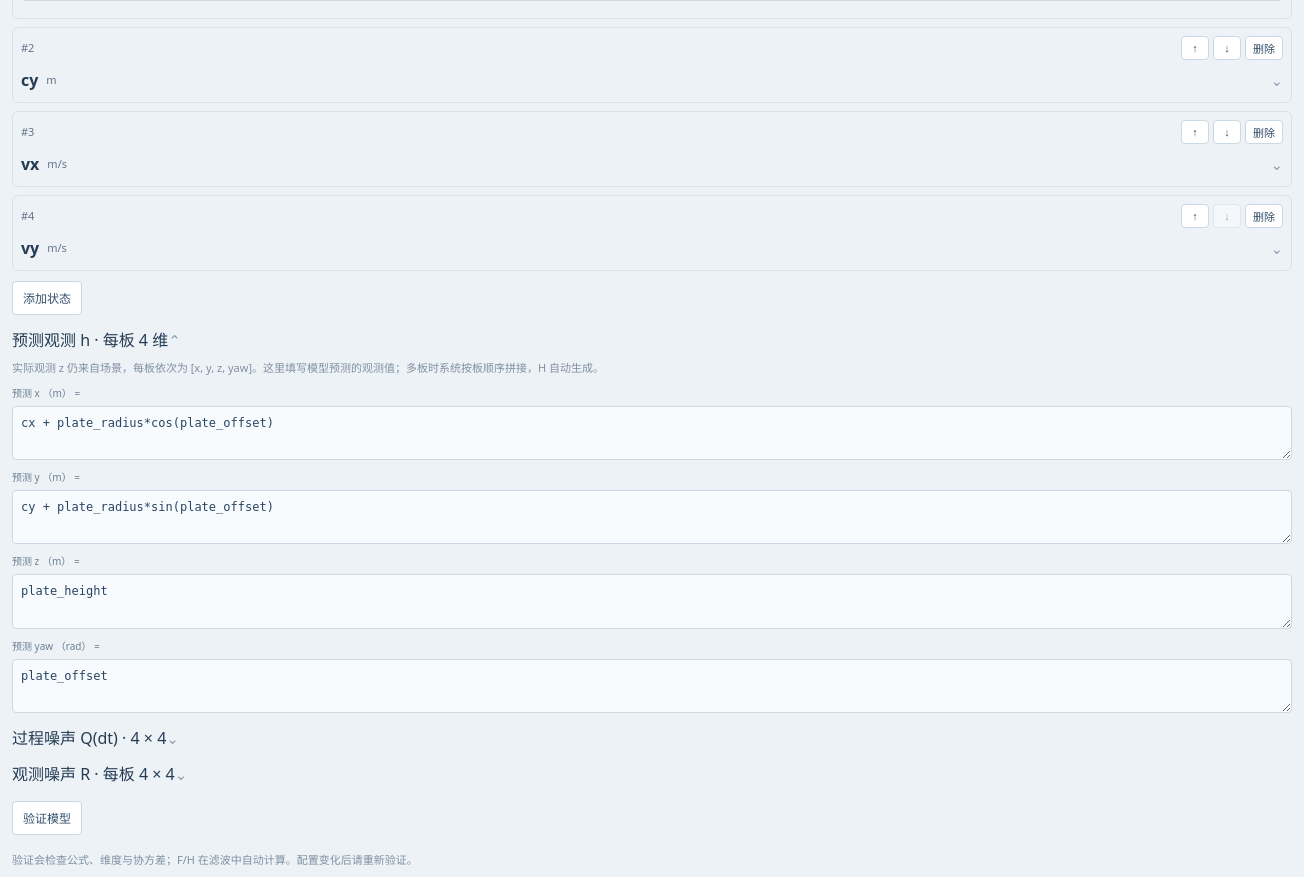
it: formula model form › reports equation errors returned by validation in the form
(page scrolled)
Replace the text in the text box named "预测观测 x 公式" with "cx + unknown". click: (652, 433)
box: [12, 406, 1292, 460]
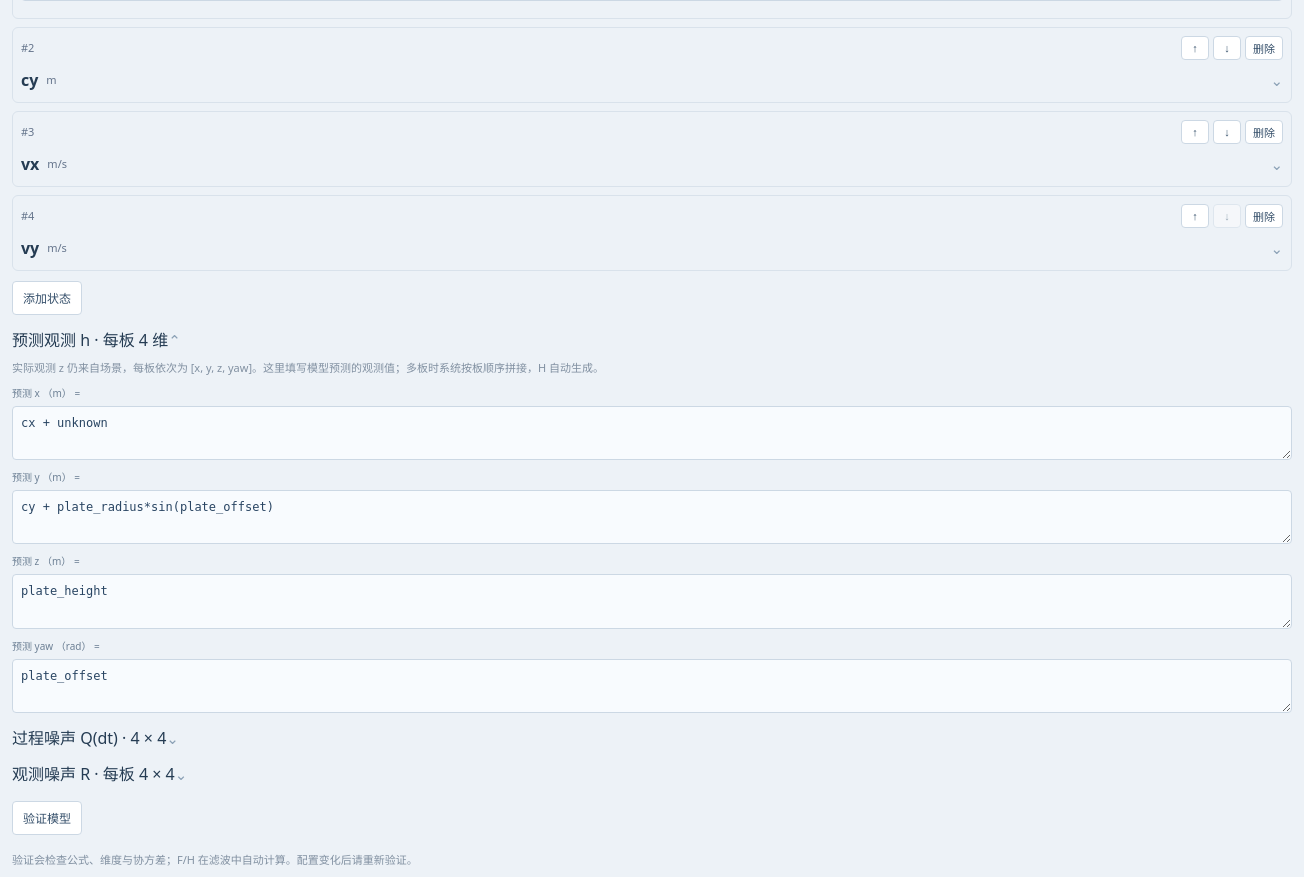
Click the button "验证模型". click: (47, 818)
box: [12, 801, 82, 835]
(page scrolled)
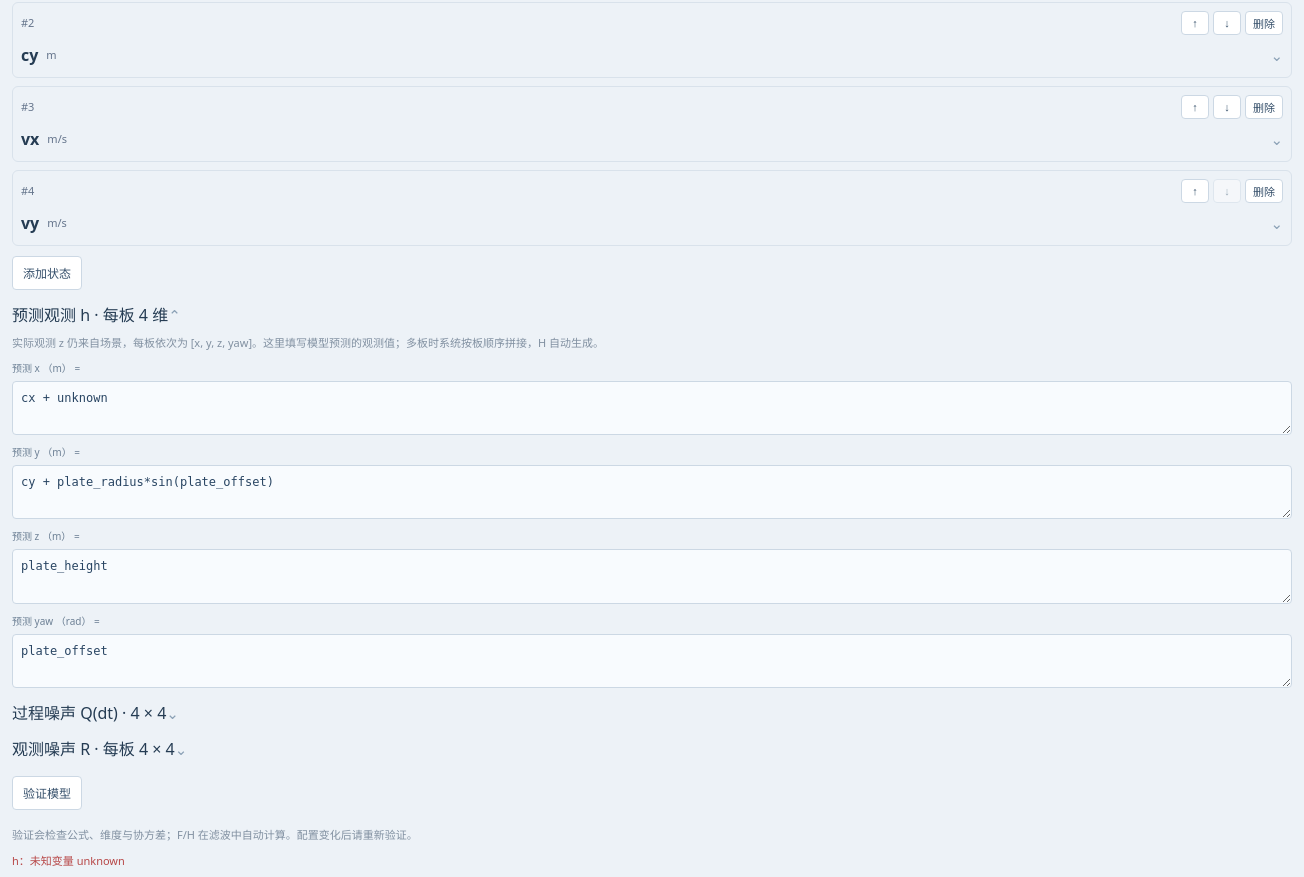
Now the message reads "h：未知变量 unknown", box [12, 853, 125, 868]
